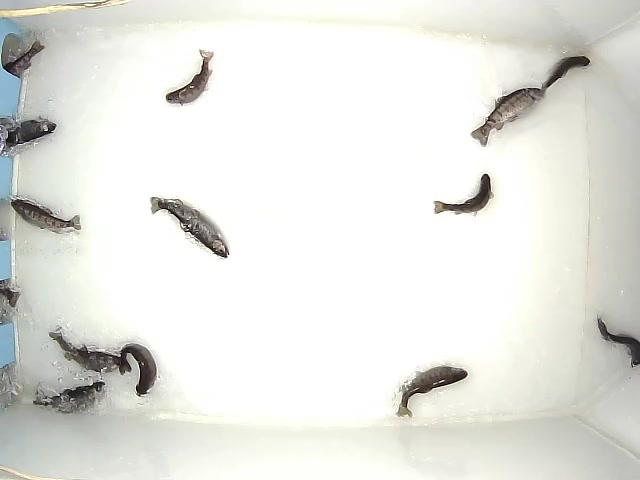fish: (149, 195, 230, 260), (470, 88, 544, 148), (396, 365, 470, 420), (48, 324, 124, 373), (165, 48, 215, 108), (432, 173, 495, 218), (10, 199, 82, 235), (32, 379, 106, 413), (537, 54, 591, 99), (596, 314, 640, 369), (119, 341, 160, 398)
